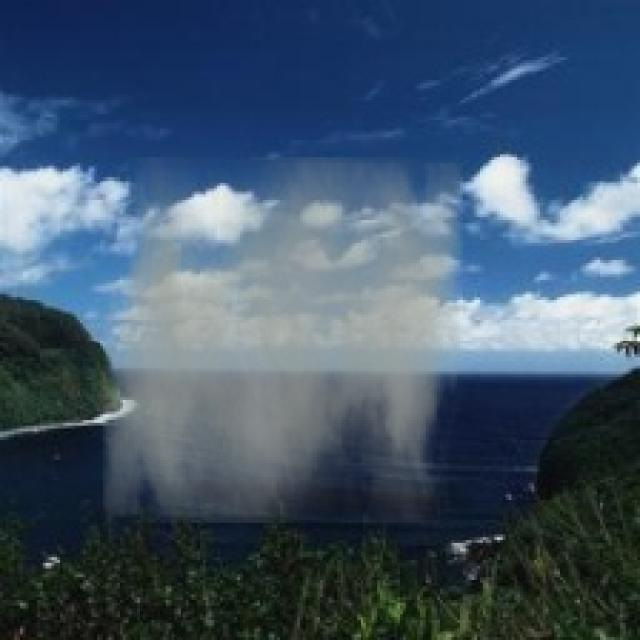smoke: (103, 157, 463, 523)
